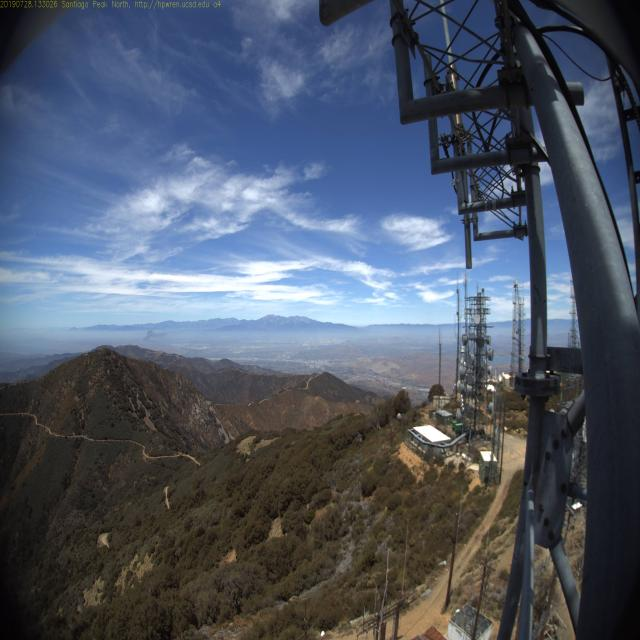smoke: (137, 321, 167, 350)
